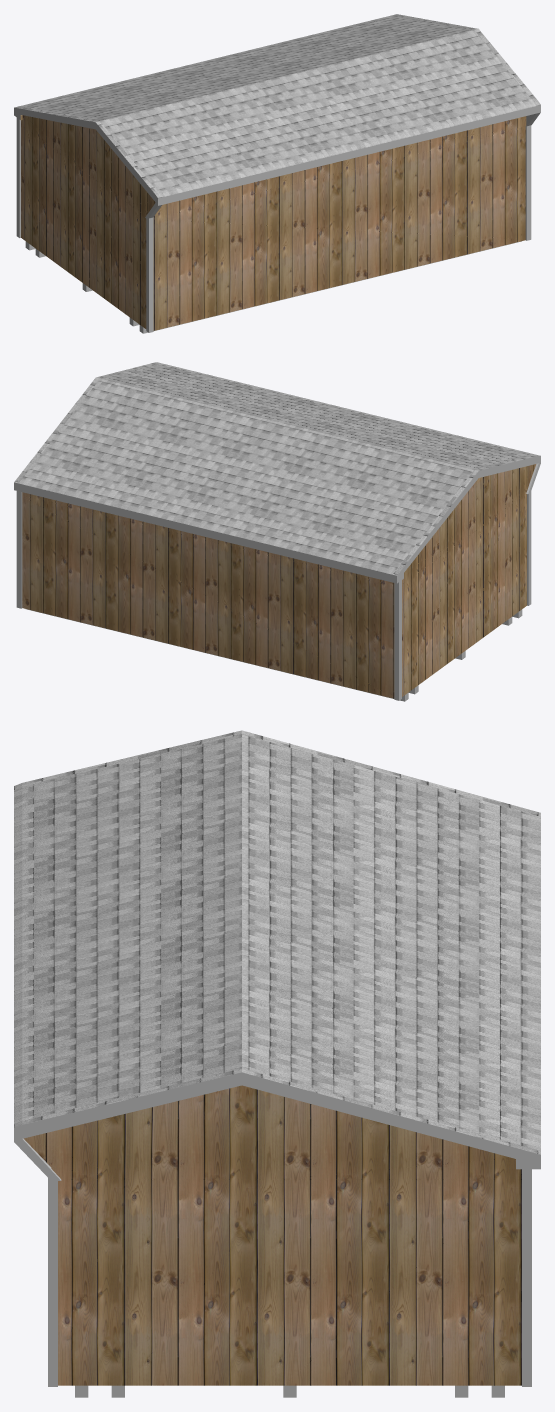
The model's file is Quaker Sheds_12x20.obj.
3 renders of one model, top to bottom at view 1: azimuth 30°, elevation 25°; view 2: azimuth 150°, elevation 25°; view 3: azimuth 270°, elevation 25°, orthographic. The views are drawn at different scales.
Parts seen in each view (by area): view 1: Shed, Roof, Sides, Trim, Floor; view 2: Shed, Roof, Sides, Trim, Floor; view 3: Roof, Shed, Sides, Trim, Floor.
Boxes of the visible parts, bbox=[...] form: Shed: bbox=[20, 115, 526, 330]; Roof: bbox=[14, 14, 540, 198]; Sides: bbox=[14, 105, 540, 219]; Trim: bbox=[16, 117, 531, 332]; Floor: bbox=[25, 241, 521, 333]; Shed: bbox=[22, 464, 536, 698]; Roof: bbox=[14, 362, 538, 575]; Sides: bbox=[14, 455, 540, 583]; Trim: bbox=[16, 491, 531, 700]; Floor: bbox=[26, 609, 522, 701]; Roof: bbox=[14, 730, 540, 1154]; Shed: bbox=[24, 1085, 521, 1385]; Sides: bbox=[14, 1072, 540, 1180]; Trim: bbox=[48, 1169, 531, 1386]; Floor: bbox=[75, 1385, 504, 1397].
Size of the model in its own units: 6.16 by 2.74 by 4.01.
